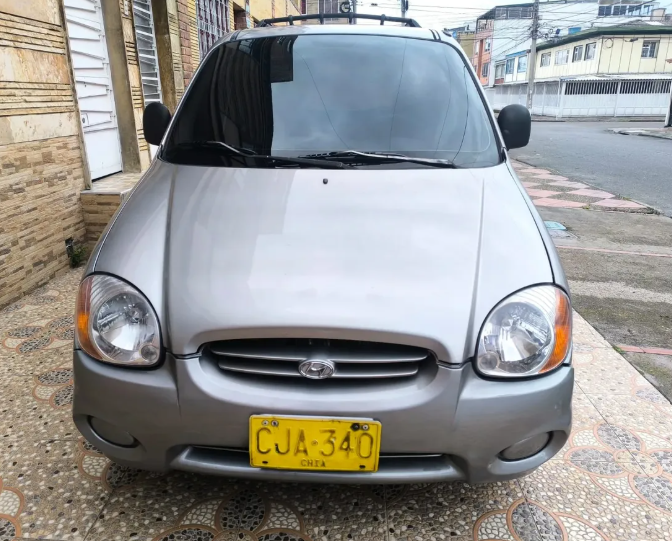placa: (247, 410, 385, 476)
